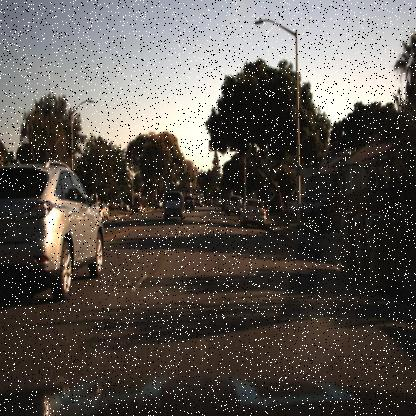car: (0, 161, 104, 298), (236, 195, 268, 228), (283, 193, 327, 216), (162, 190, 186, 222), (226, 193, 244, 216), (110, 194, 129, 214), (180, 192, 195, 212), (108, 197, 126, 213), (128, 201, 144, 217), (130, 200, 142, 218), (153, 194, 163, 212), (205, 198, 214, 206)
